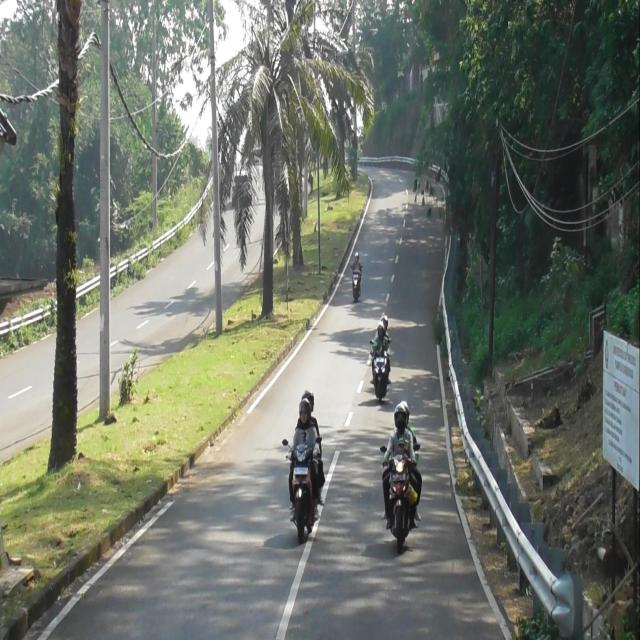motorcycle: (380, 438, 420, 549), (280, 438, 322, 539), (372, 338, 391, 402), (352, 266, 360, 300)
person: (385, 405, 415, 468), (289, 399, 320, 459), (404, 400, 419, 463), (302, 389, 319, 438), (370, 322, 390, 356), (396, 436, 410, 461), (352, 250, 362, 274), (379, 316, 388, 333)
rider_region: (282, 390, 326, 546), (382, 401, 425, 552), (369, 311, 395, 399), (351, 248, 363, 303)
